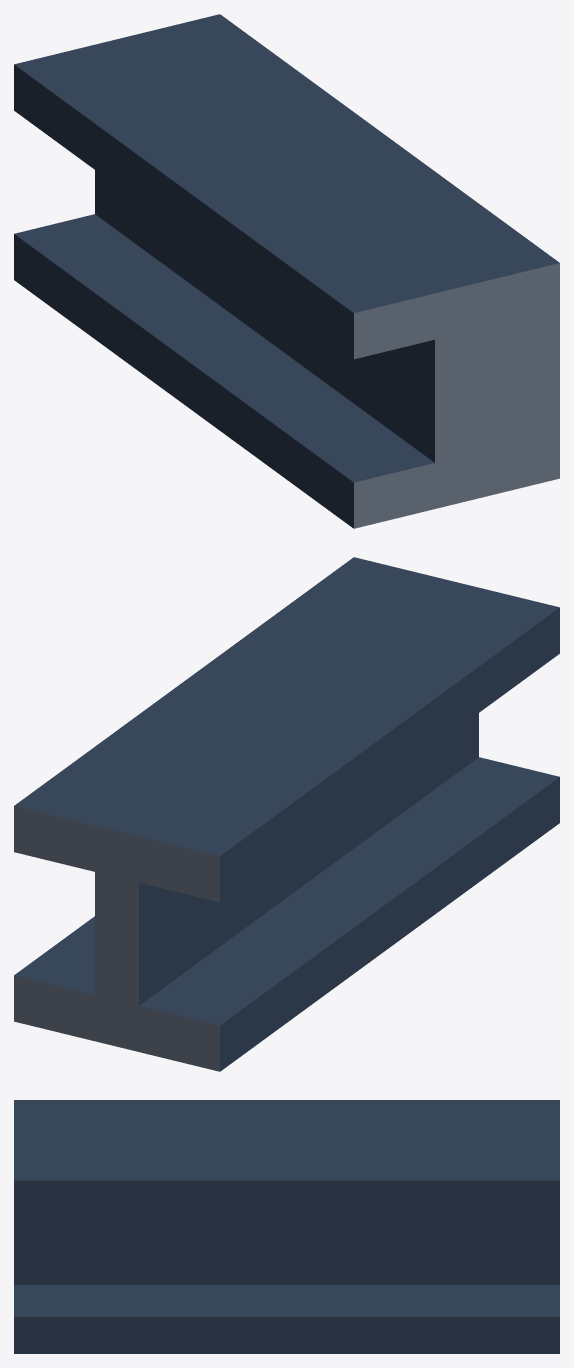
The model's file is steel.glb.
3 views of the same model, one above another, from view 1: azimuth 30°, elevation 25°; view 2: azimuth 150°, elevation 25°; view 3: azimuth 270°, elevation 25° (orthographic). The views are drawn at different scales.
Parts seen in each view (by area): view 1: steel; view 2: steel; view 3: steel.
Part boxes in pixels (box(x1,y1,x2,y2)): steel: box(14, 14, 559, 528); steel: box(14, 557, 559, 1071); steel: box(14, 1100, 559, 1353).
Size of the model in its own units: 0.14 by 0.14 by 0.4.
Materials: 1 (1 with a texture image).
